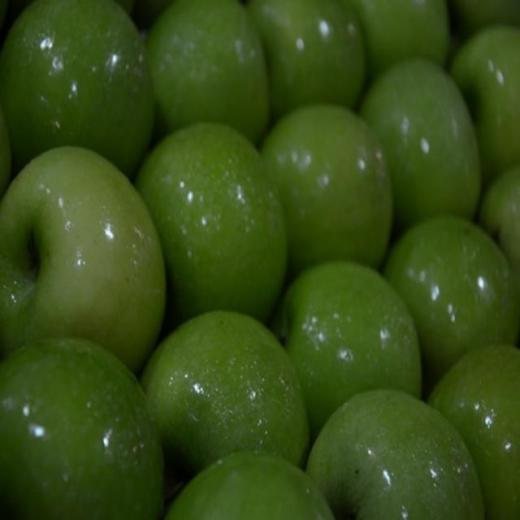Apple: (2, 0, 518, 518)
